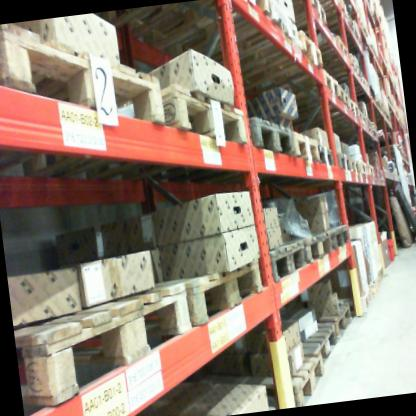pallet: (0, 74, 255, 212), (12, 275, 200, 416), (0, 8, 173, 154), (120, 224, 312, 351), (165, 0, 303, 66), (205, 345, 327, 410), (206, 30, 329, 92), (237, 108, 299, 176), (257, 65, 342, 112), (271, 322, 339, 379), (280, 299, 354, 348), (302, 215, 335, 272), (305, 49, 362, 80), (269, 0, 328, 28), (315, 78, 353, 119), (326, 211, 357, 260), (289, 131, 320, 178), (331, 145, 354, 183), (317, 137, 339, 176), (333, 99, 362, 125), (346, 287, 373, 313), (328, 32, 349, 63), (360, 278, 383, 299), (346, 152, 360, 183), (354, 155, 369, 182), (359, 111, 373, 136), (374, 263, 389, 286), (368, 118, 380, 142), (356, 80, 374, 95), (412, 233, 416, 248)
